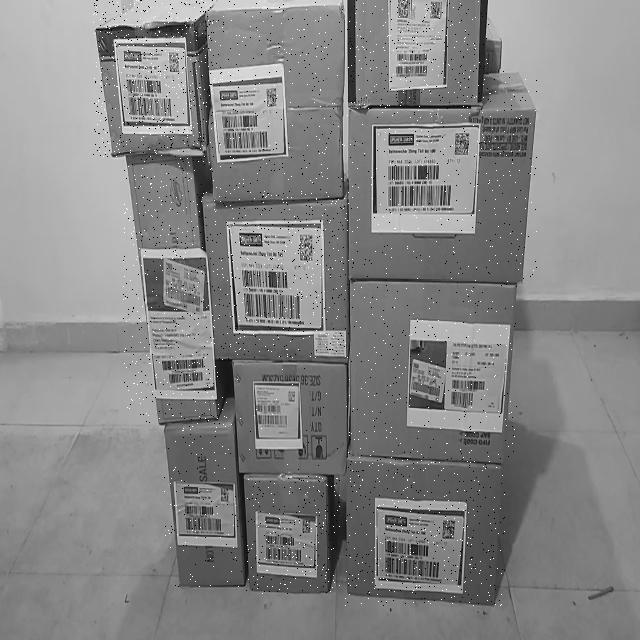BoxFace: (348, 70, 538, 284), (349, 280, 517, 463), (205, 1, 345, 203), (123, 149, 221, 424), (201, 180, 349, 361), (345, 448, 505, 606), (93, 0, 214, 157), (163, 396, 247, 588), (347, 0, 489, 109), (232, 358, 348, 475), (242, 471, 340, 594)
